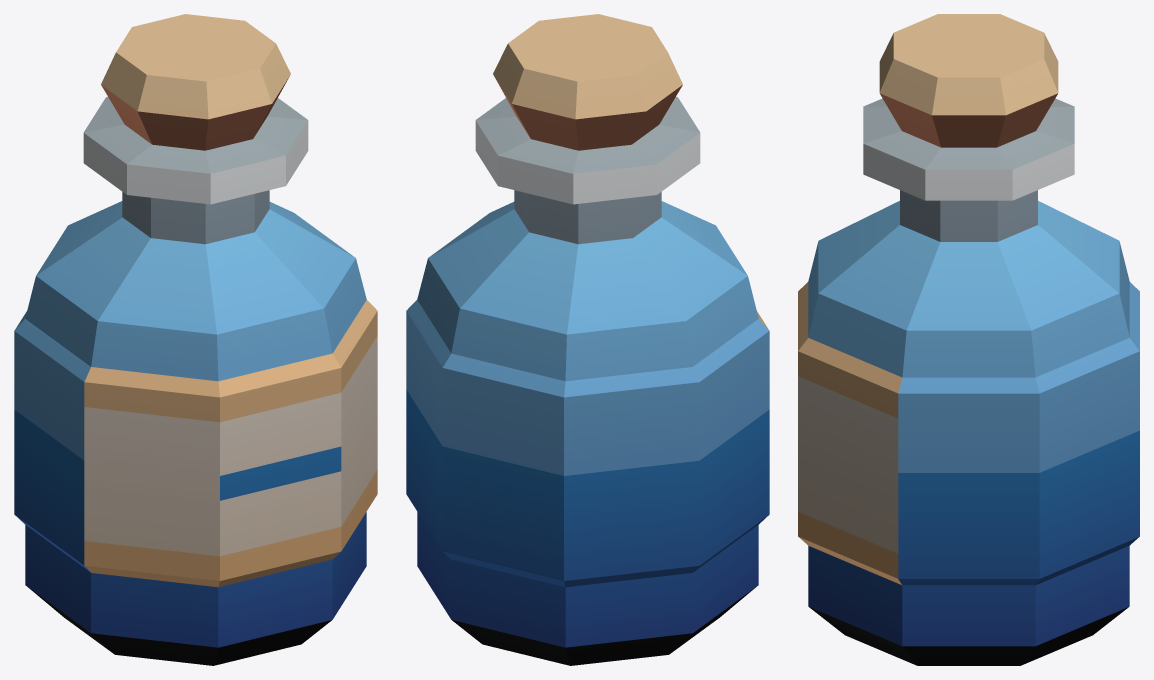
File: potion_medium_cobalt.glb
3 views of the same model, side by side, from view 1: azimuth 30°, elevation 25°; view 2: azimuth 150°, elevation 25°; view 3: azimuth 270°, elevation 25° (orthographic).
Parts seen in each view (by area): view 1: model; view 2: model; view 3: model.
Part boxes in pixels (bbox=[...]): model: bbox=[14, 14, 377, 665]; model: bbox=[406, 14, 769, 665]; model: bbox=[798, 14, 1139, 665].
Bounding box in the file's own units: 0.48 × 0.88 × 0.48.
1 material, 1 textured.
